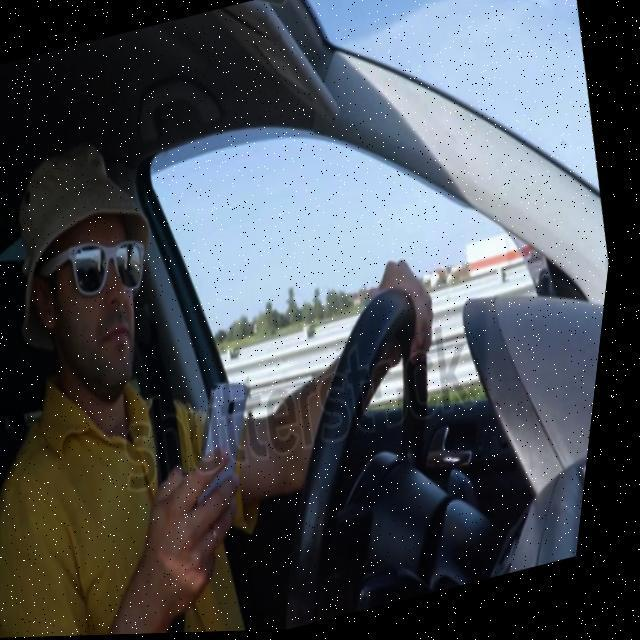PhoneCall: (182, 375, 286, 530)
